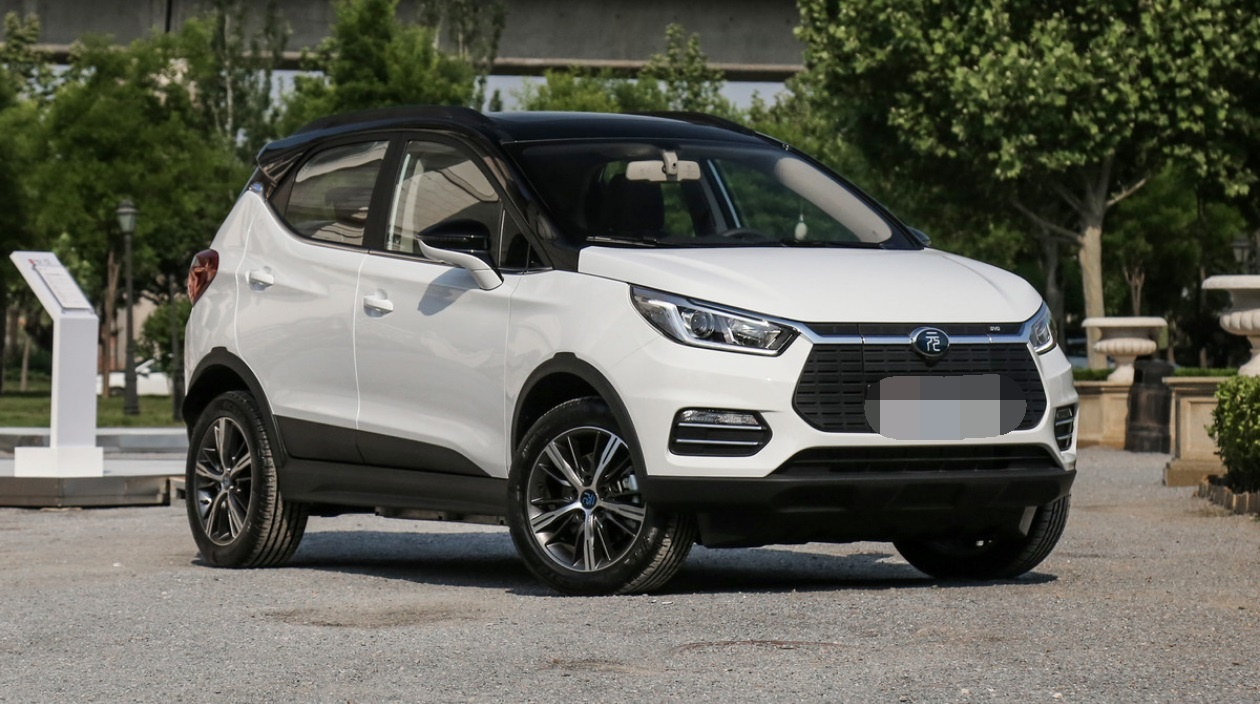SUV: (127, 62, 1116, 592)
